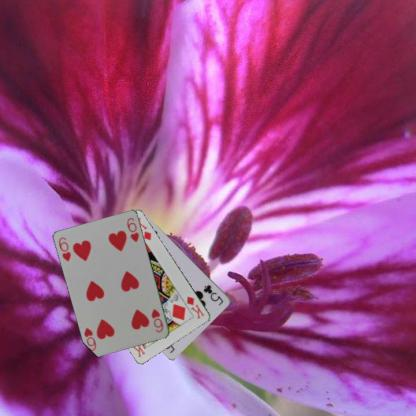5c: (201, 282, 225, 307)
6h: (56, 234, 72, 263), (149, 306, 165, 334)
Kd: (184, 294, 206, 320)
